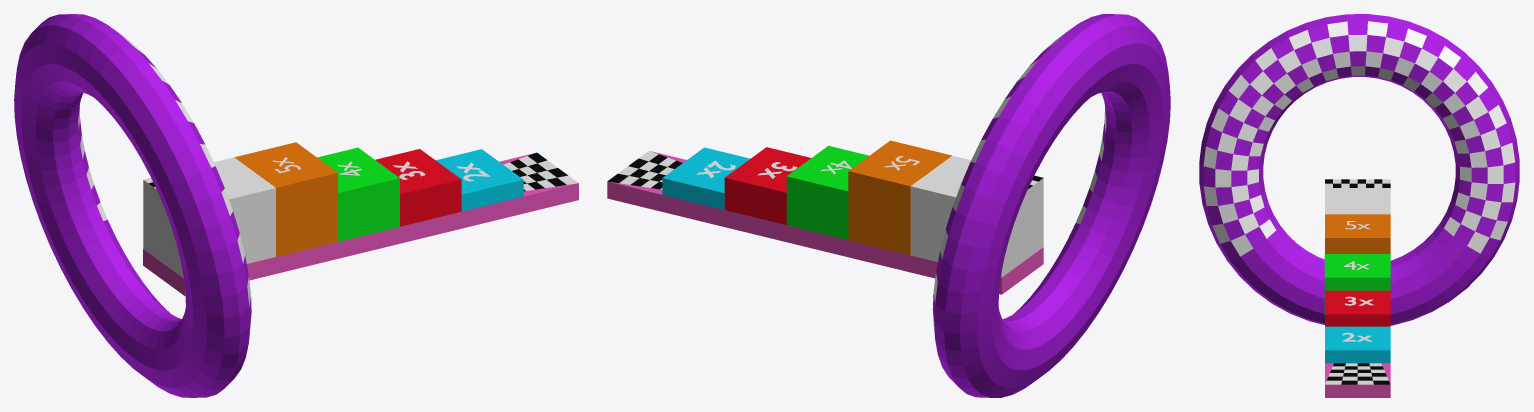
Rendered from FinishBasamaklar.fbx.
The picture shows the model from 3 angles, left to right: view 1: azimuth 30°, elevation 25°; view 2: azimuth 150°, elevation 25°; view 3: azimuth 270°, elevation 25°; orthographic projection. The views are drawn at different scales.
Parts seen in each view (by area): view 1: Torus, Cube, Cube.004, Cube.005, Cube.003, Cube.001, Cube.002; view 2: Torus, Cube, Cube.004, Cube.005, Cube.003, Cube.001, Cube.002; view 3: Torus, Cube.004, Cube.003, Cube.002, Cube.005, Cube.001, Cube.
Part boxes in pixels (<box>): Torus: <box>14,14,251,397</box>; Cube: <box>143,152,578,295</box>; Cube.004: <box>234,142,337,256</box>; Cube.005: <box>143,157,275,277</box>; Cube.003: <box>317,147,399,241</box>; Cube.001: <box>375,149,461,226</box>; Cube.002: <box>436,149,523,211</box>; Torus: <box>932,14,1170,397</box>; Cube: <box>607,151,1043,294</box>; Cube.004: <box>848,140,951,255</box>; Cube.005: <box>910,155,1043,277</box>; Cube.003: <box>786,145,868,239</box>; Cube.001: <box>724,147,810,224</box>; Cube.002: <box>662,147,749,209</box>; Torus: <box>1199,14,1519,325</box>; Cube.004: <box>1325,214,1390,253</box>; Cube.003: <box>1324,254,1390,315</box>; Cube.002: <box>1325,326,1390,363</box>; Cube.005: <box>1325,179,1390,214</box>; Cube.001: <box>1325,290,1390,326</box>; Cube: <box>1325,363,1390,397</box>.
Bounding box in the file's own units: 5864 × 4337 × 4354.
